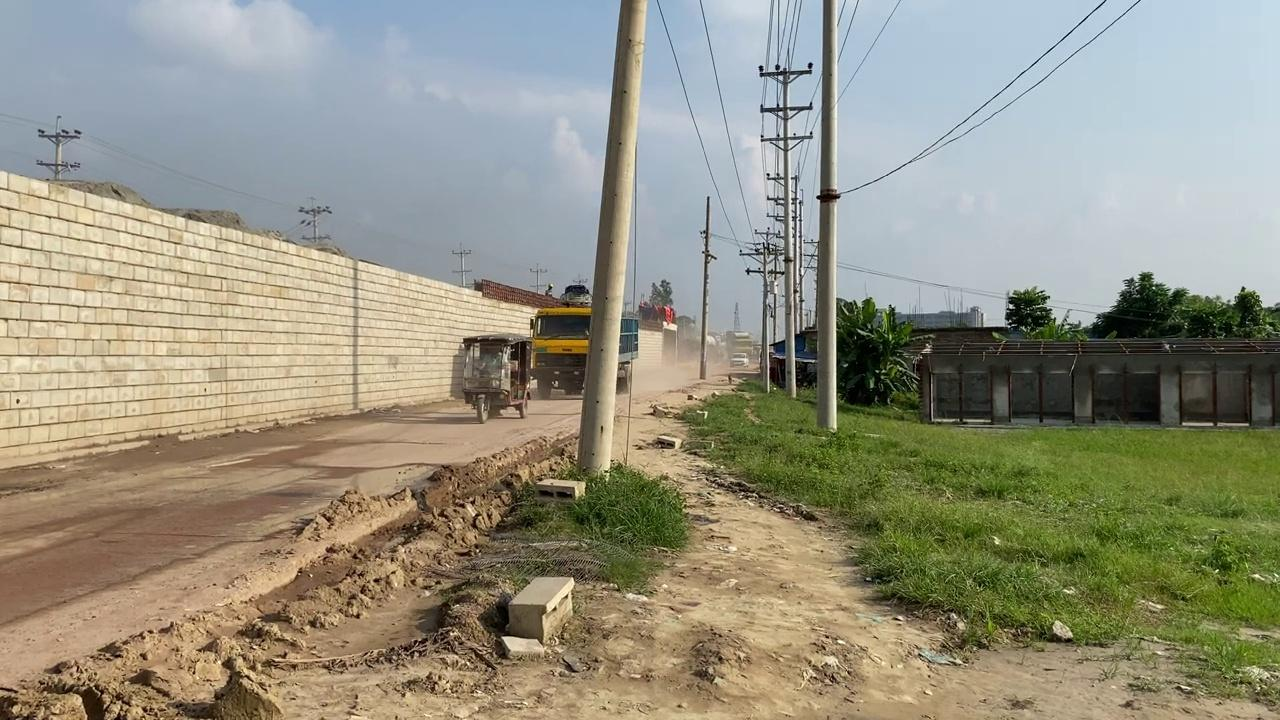Fence: (917, 336, 1278, 427)
Obstacle: (505, 574, 575, 643), (534, 477, 586, 501)
Pole: (575, 0, 648, 479), (815, 0, 839, 431), (699, 195, 711, 379)
Rickshaw: (2, 374, 1277, 719)
Traffic-sign: (834, 295, 919, 406), (1004, 284, 1053, 333)
Tree: (460, 283, 640, 423), (763, 305, 986, 388), (529, 304, 639, 400), (460, 333, 531, 423), (724, 330, 752, 368), (638, 298, 675, 324)
Upstairs: (0, 168, 544, 469)
